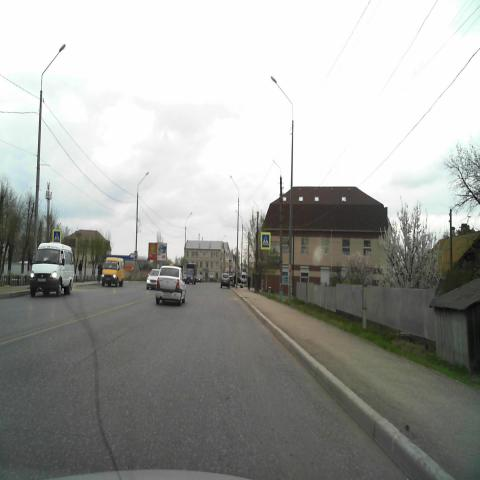5_19_1: (261, 232, 270, 249), (53, 229, 61, 243)
